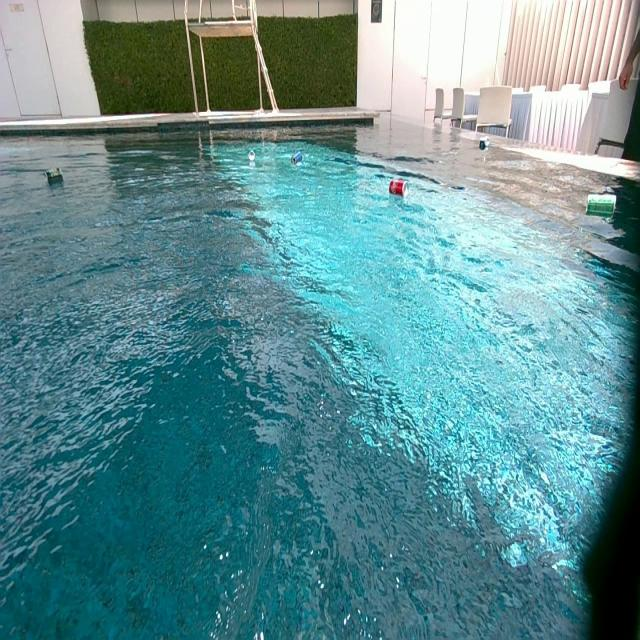Cans: (587, 194, 616, 217), (45, 168, 62, 186), (389, 179, 406, 196), (289, 150, 302, 165), (480, 138, 490, 150), (248, 148, 256, 161)
